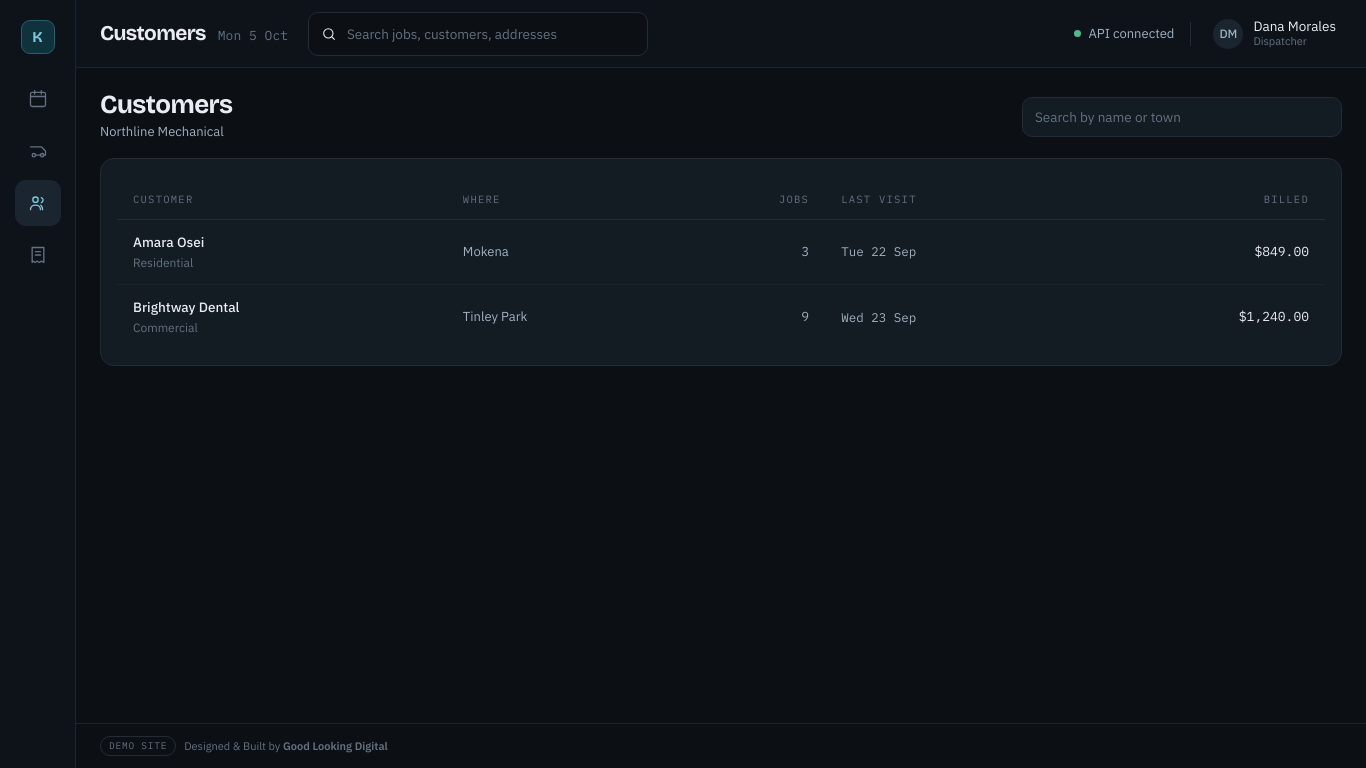
it: the customer book › searches on the server and keeps the term in the address bar
Expected: the text "Brightway Dental" is shown, [133, 298, 240, 316]
Type "osei" into the search field named "Search customers". click: (1182, 117)
box: [1022, 97, 1342, 137]
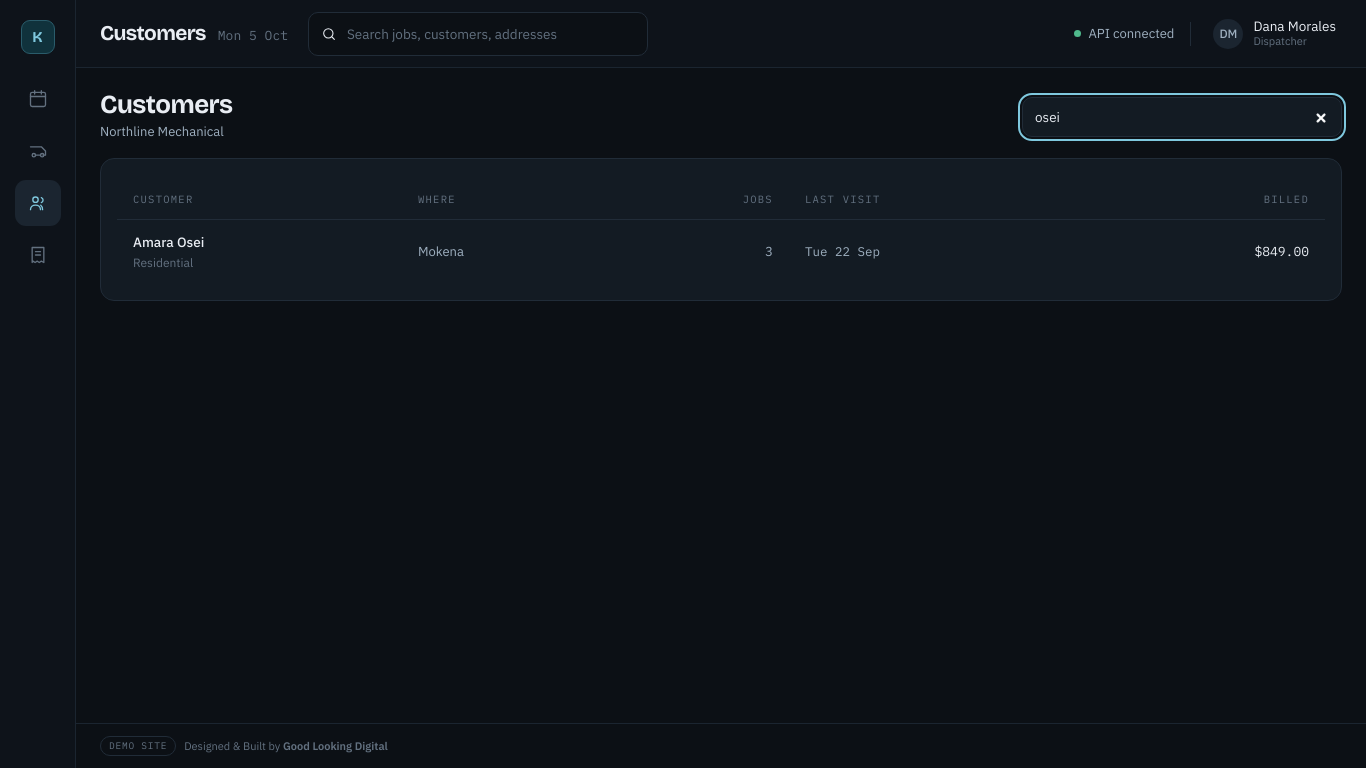
Expected: the text "Amara Osei" is shown, [133, 232, 204, 250]
Result: the link "Brightway Dental" is gone
